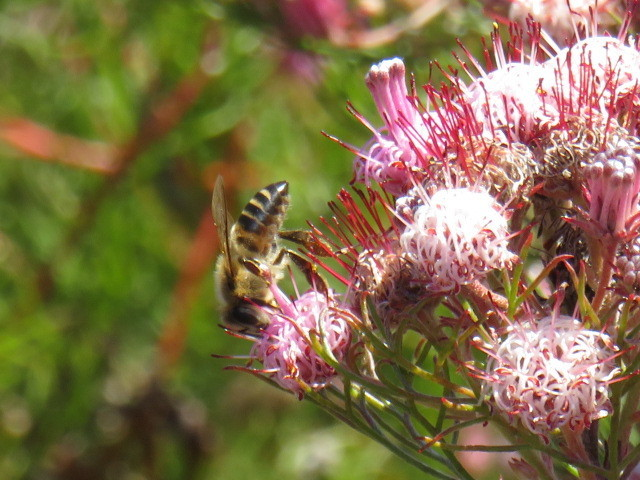not_bumblebee: (210, 172, 293, 340)
